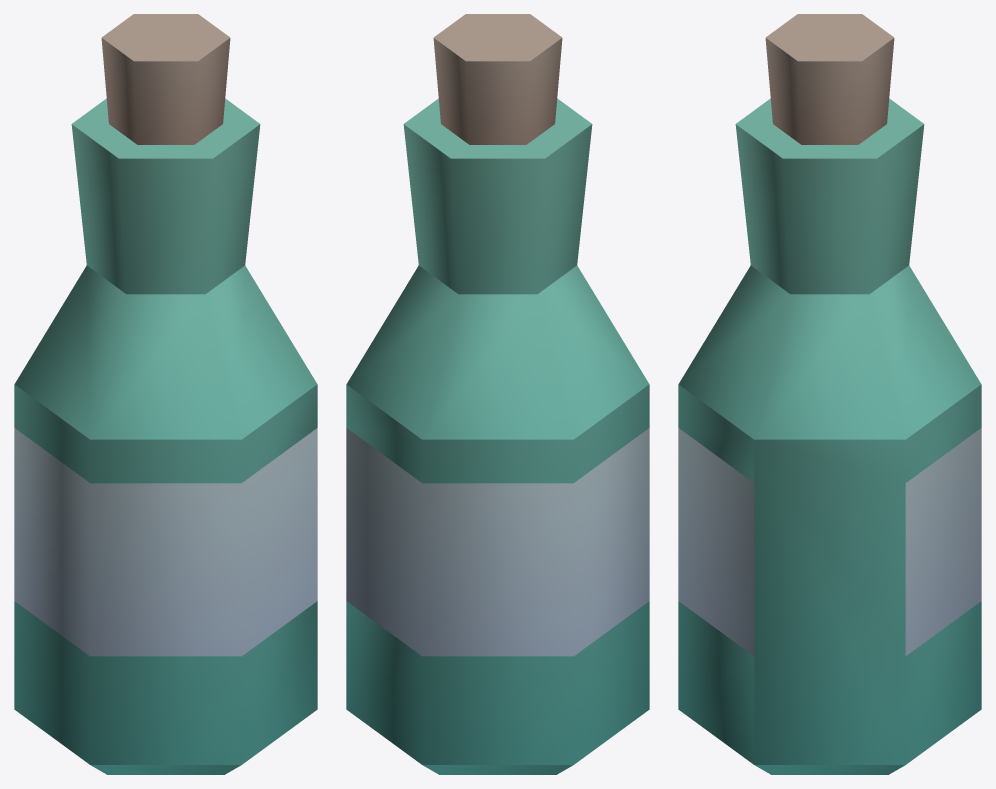
The model's file is bottle.glb.
3 renders of one model, left to right at view 1: azimuth 30°, elevation 25°; view 2: azimuth 150°, elevation 25°; view 3: azimuth 270°, elevation 25°, orthographic.
Visible parts, largest first — view 1: bottle; view 2: bottle; view 3: bottle.
Boxes of the visible parts, <box> form: bottle: <box>14,14,317,774</box>; bottle: <box>346,14,649,774</box>; bottle: <box>678,14,981,774</box>.
Size of the model in its own units: 7.53 by 22 by 8.7.
